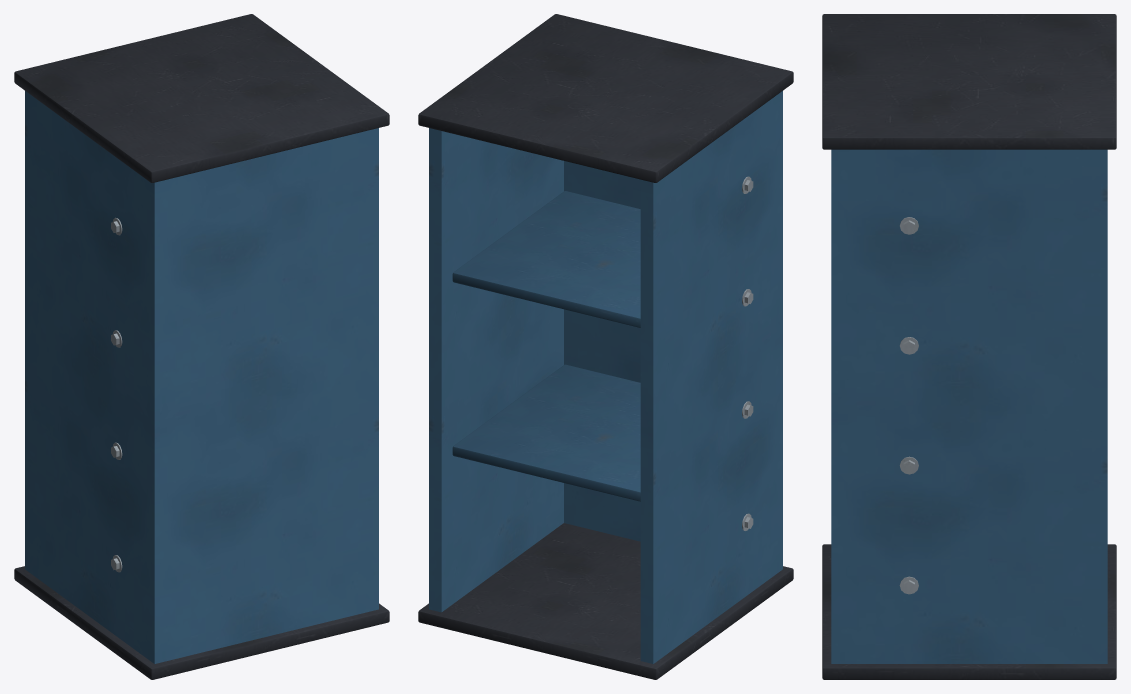
The model's file is metal_support.glb.
3 views of the same model, side by side, from view 1: azimuth 30°, elevation 25°; view 2: azimuth 150°, elevation 25°; view 3: azimuth 270°, elevation 25° (orthographic). The views are drawn at different scales.
Visible parts, largest first — view 1: Body.003; view 2: Body.003; view 3: Body.003.
Part boxes in pixels (x1=…): Body.003: x1=14, y1=14, x2=389, y2=679; Body.003: x1=418, y1=14, x2=793, y2=679; Body.003: x1=822, y1=14, x2=1116, y2=679.
Bounding box in the file's own units: 0.49 × 0.997 × 0.49.
4 materials, 4 textured.
